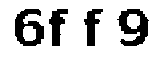6: (13, 5, 46, 51)
9: (114, 4, 152, 52)
f: (82, 4, 106, 53), (46, 7, 73, 48)
